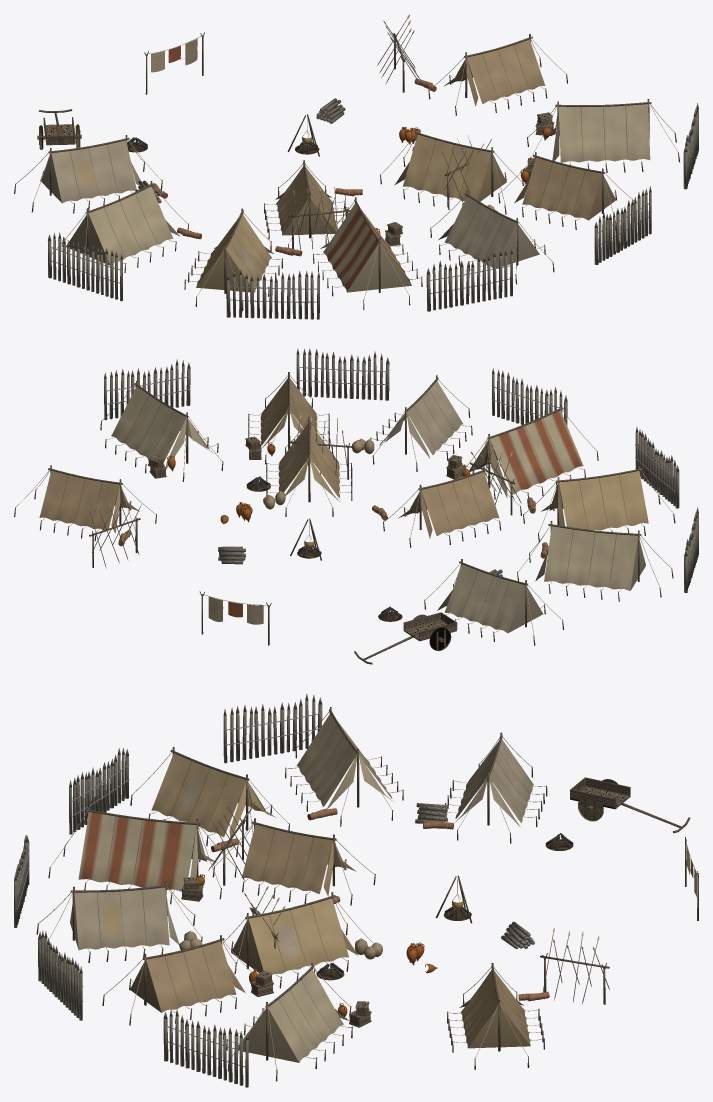
The model's file is camp_scene.glb.
3 views of the same model, one above another, from view 1: azimuth 30°, elevation 25°; view 2: azimuth 150°, elevation 25°; view 3: azimuth 270°, elevation 25° (orthographic). The views are drawn at different scales.
Parts seen in each view (by area): view 1: camp_linen, camp_bark, camp_wood, camp_rope, camp_terracotta; view 2: camp_linen, camp_bark, camp_wood, camp_rope, camp_terracotta; view 3: camp_linen, camp_bark, camp_wood, camp_rope, camp_terracotta.
Boxes of the visible parts, bbox=[...] form: camp_linen: bbox=[40, 38, 650, 292]; camp_bark: bbox=[48, 98, 698, 319]; camp_wood: bbox=[14, 19, 679, 310]; camp_rope: bbox=[16, 35, 678, 301]; camp_terracotta: bbox=[375, 125, 550, 234]; camp_linen: bbox=[39, 378, 648, 633]; camp_bark: bbox=[104, 348, 698, 621]; camp_wood: bbox=[14, 372, 675, 664]; camp_rope: bbox=[15, 375, 673, 635]; camp_terracotta: bbox=[167, 442, 470, 523]; camp_linen: bbox=[70, 713, 696, 1062]; camp_bark: bbox=[14, 693, 573, 1087]; camp_wood: bbox=[36, 707, 698, 1081]; camp_rope: bbox=[38, 711, 697, 1069]; camp_terracotta: bbox=[197, 874, 437, 1019].
Bounding box in the file's own units: 31.83 × 2.85 × 26.9.
7 materials, 5 textured.
